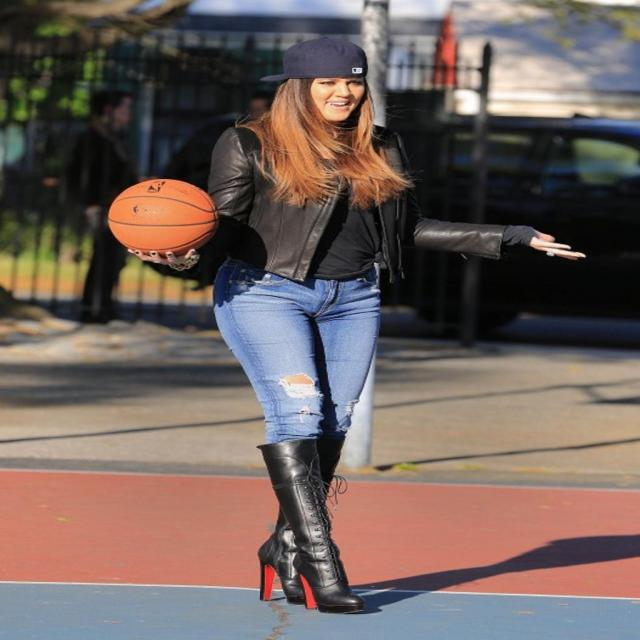Face: (293, 61, 374, 124)
